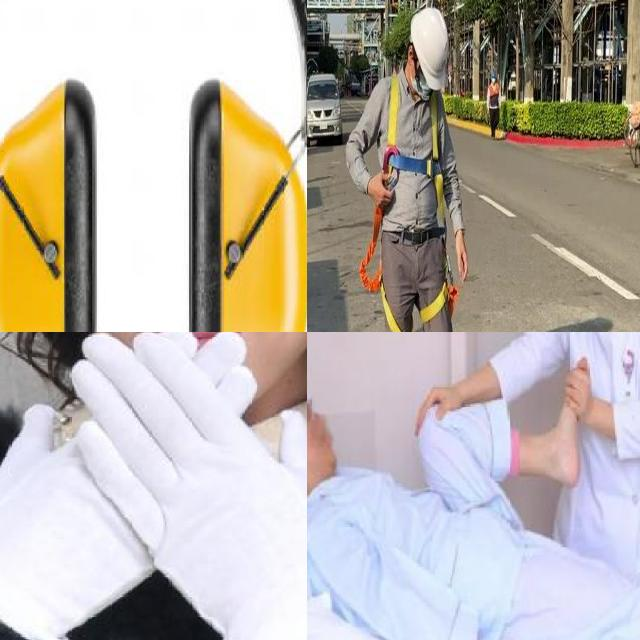Ear-protection: (0, 0, 307, 332)
Harness: (383, 75, 443, 220), (359, 206, 402, 332), (409, 286, 448, 332)
hand_glove: (0, 332, 266, 620), (71, 332, 307, 632)
hand_noglove: (412, 383, 460, 432), (563, 364, 590, 422)
person: (307, 363, 640, 640), (497, 332, 640, 595)
